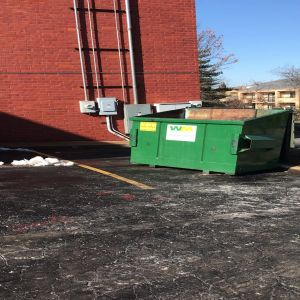Dumpster: (128, 103, 295, 179)
